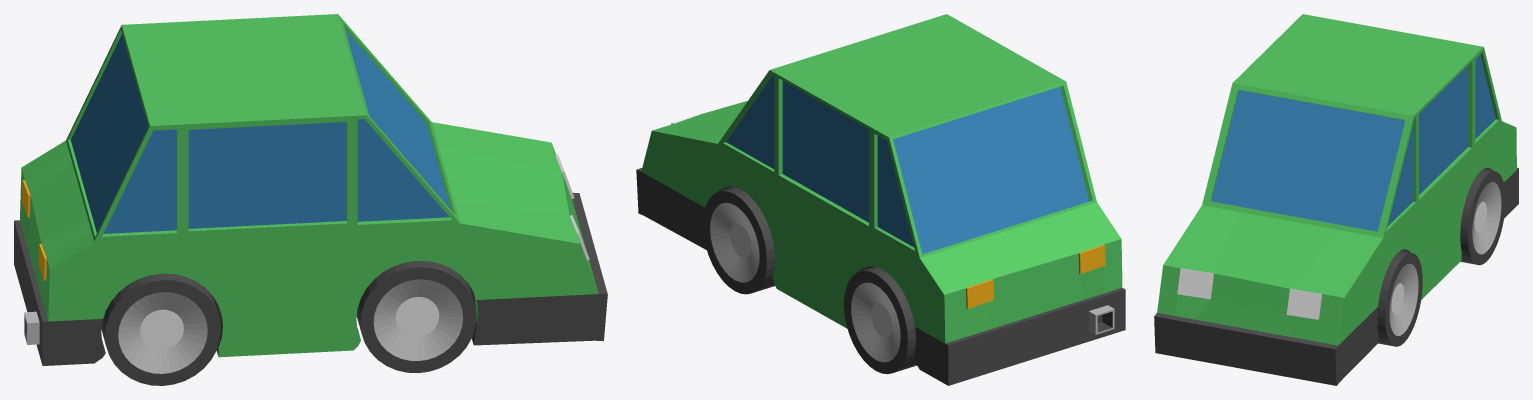
The model's file is car_green.fbx.
The picture shows the model from 3 angles, left to right: view 1: azimuth 30°, elevation 25°; view 2: azimuth 150°, elevation 25°; view 3: azimuth 270°, elevation 25°; orthographic projection. The views are drawn at different scales.
Visible parts, largest first — view 1: Cube.004, Cylinder.012, Cylinder.011; view 2: Cube.004, Cylinder.013, Cylinder.010; view 3: Cube.004, Cylinder.013, Cylinder.010.
Boxes of the visible parts, box(x1,y1,x2,y2) form: Cube.004: box(14, 14, 607, 365); Cylinder.012: box(356, 260, 476, 373); Cylinder.011: box(101, 273, 220, 385); Cube.004: box(636, 14, 1125, 385); Cylinder.013: box(844, 266, 916, 374); Cylinder.010: box(703, 187, 774, 294); Cube.004: box(1154, 14, 1518, 385); Cylinder.013: box(1460, 169, 1505, 265); Cylinder.010: box(1377, 251, 1422, 346).
Bounding box in the file's own units: 219 × 100 × 158.
